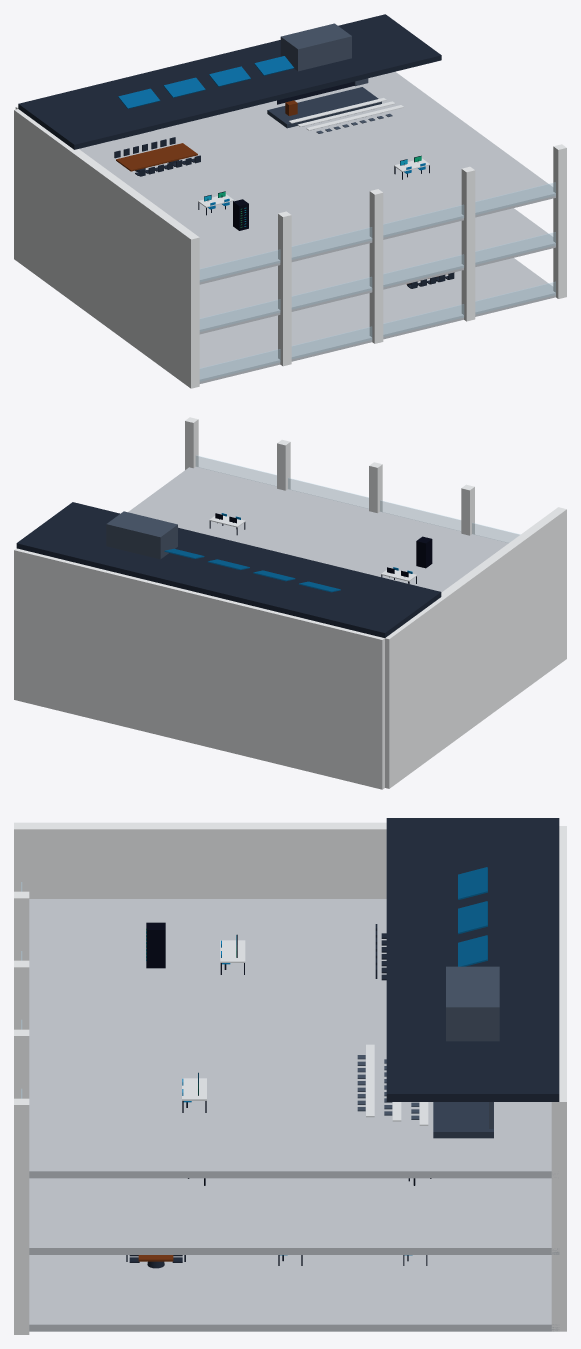
The model's file is academic_building_cutaway.glb.
3 views of the same model, one above another, from view 1: azimuth 30°, elevation 25°; view 2: azimuth 150°, elevation 25°; view 3: azimuth 270°, elevation 25° (orthographic). The views are drawn at different scales.
Visible parts, largest first — view 1: LEVEL_02, object 2, object 11, LEVEL_00, LEVEL_01, object 17, object 6, object 5, object 4, object 7, object 3, object 14 (+3 smaller); view 2: object 1, object 2, LEVEL_02, object 11, object 17, object 3, object 7, object 6, object 5, object 4; view 3: LEVEL_02, object 11, LEVEL_01, LEVEL_00, object 2, object 1, object 17, object 7, object 4, object 5, object 6, object 3 (+3 smaller).
Boxes of the visible parts, x1,y1,x2,y2 form: LEVEL_02: [79, 71, 555, 284]; object 2: [14, 109, 196, 385]; object 11: [18, 14, 441, 149]; LEVEL_00: [199, 258, 555, 383]; LEVEL_01: [199, 208, 555, 334]; object 17: [280, 23, 351, 71]; object 6: [461, 166, 475, 321]; object 5: [369, 189, 383, 343]; object 4: [278, 211, 291, 366]; object 7: [553, 144, 566, 298]; object 3: [186, 234, 199, 388]; object 14: [209, 66, 250, 86]; object 1: [14, 548, 384, 789]; object 2: [385, 509, 563, 788]; LEVEL_02: [128, 455, 520, 592]; object 11: [16, 502, 441, 637]; object 17: [106, 511, 177, 559]; object 3: [554, 507, 566, 662]; object 7: [185, 417, 198, 469]; object 6: [277, 439, 290, 490]; object 5: [369, 462, 382, 513]; object 4: [461, 484, 474, 535]; LEVEL_02: [21, 882, 551, 1178]; object 11: [386, 818, 559, 1101]; LEVEL_01: [29, 1178, 559, 1254]; LEVEL_00: [29, 1255, 559, 1331]; object 2: [21, 822, 386, 898]; object 1: [551, 826, 566, 1331]; object 17: [446, 966, 499, 1041]; object 7: [14, 1098, 29, 1334]; object 4: [14, 891, 29, 960]; object 5: [14, 960, 29, 1029]; object 6: [14, 1029, 29, 1098]; object 3: [14, 822, 29, 891].
Size of the model in its own units: 34.8 by 15.6 by 28.8.
